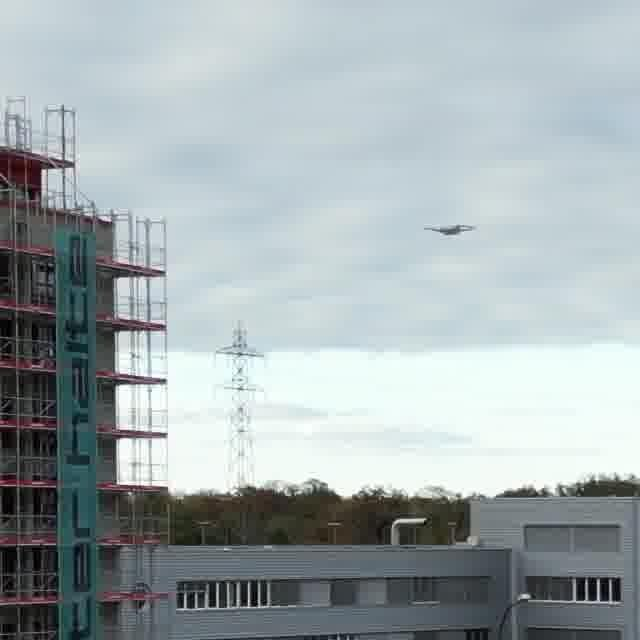Drohne: (424, 224, 474, 235)
